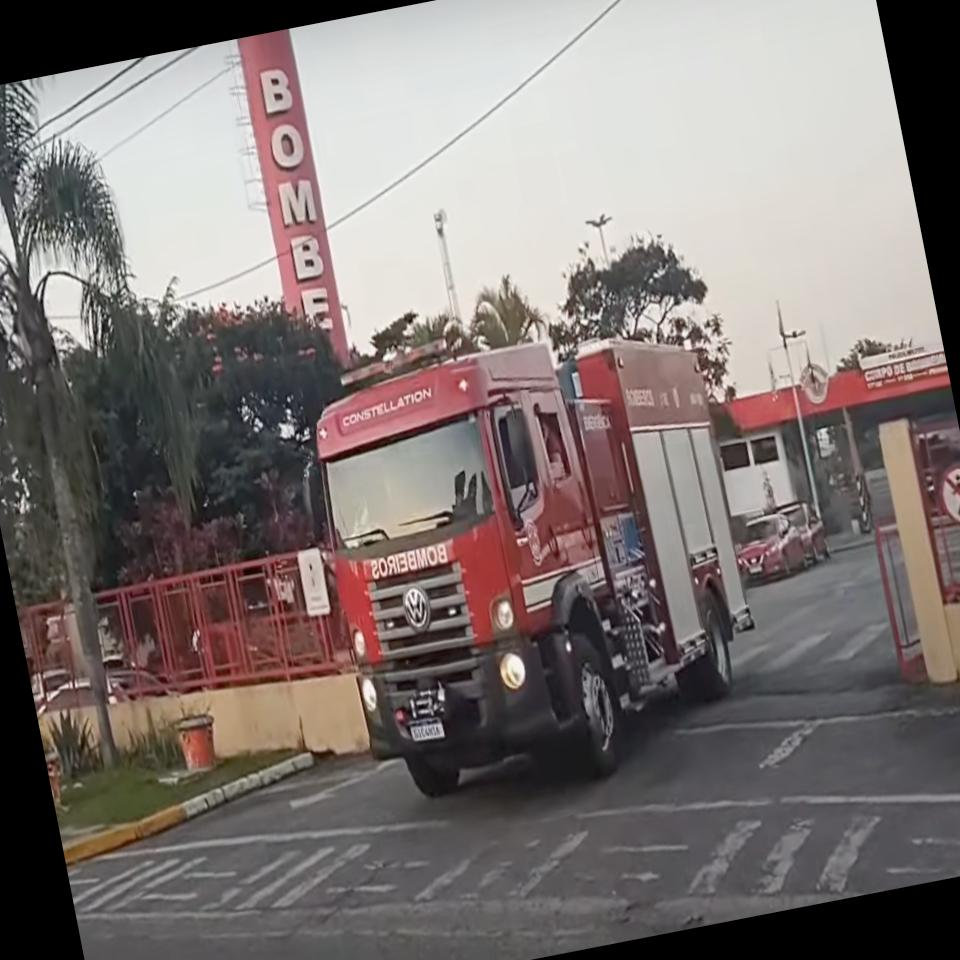viatura: (294, 286, 782, 818)
